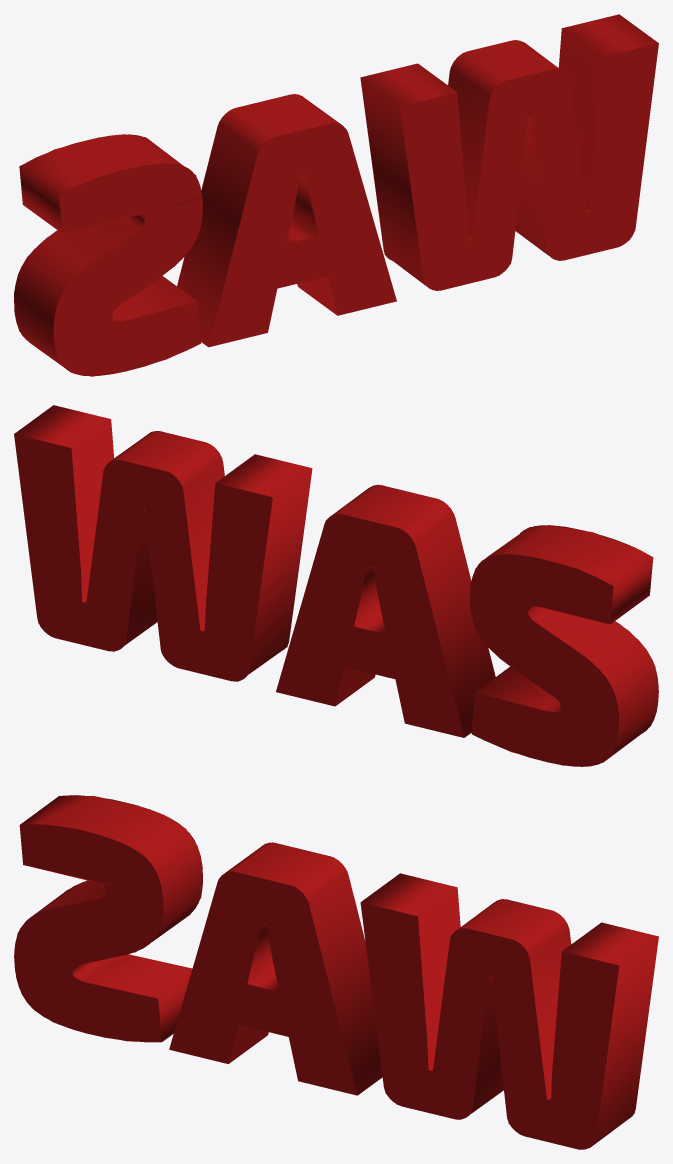
Rendered from was.fbx.
3 views of the same model, one above another, from view 1: azimuth 30°, elevation 25°; view 2: azimuth 150°, elevation 25°; view 3: azimuth 330°, elevation 25° (orthographic).
Parts seen in each view (by area): view 1: Text; view 2: Text; view 3: Text.
Part boxes in pixels (box(x1,y1,x2,y2)): Text: box(14, 14, 658, 376); Text: box(14, 405, 658, 766); Text: box(14, 795, 658, 1149).
Bounding box in the file's own units: 7.05 × 2.26 × 0.8.
